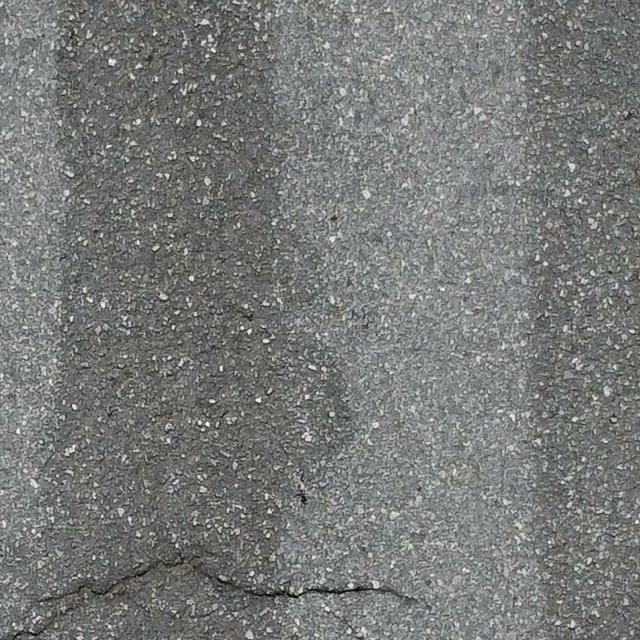TransverseCrack: (1, 552, 410, 640)
